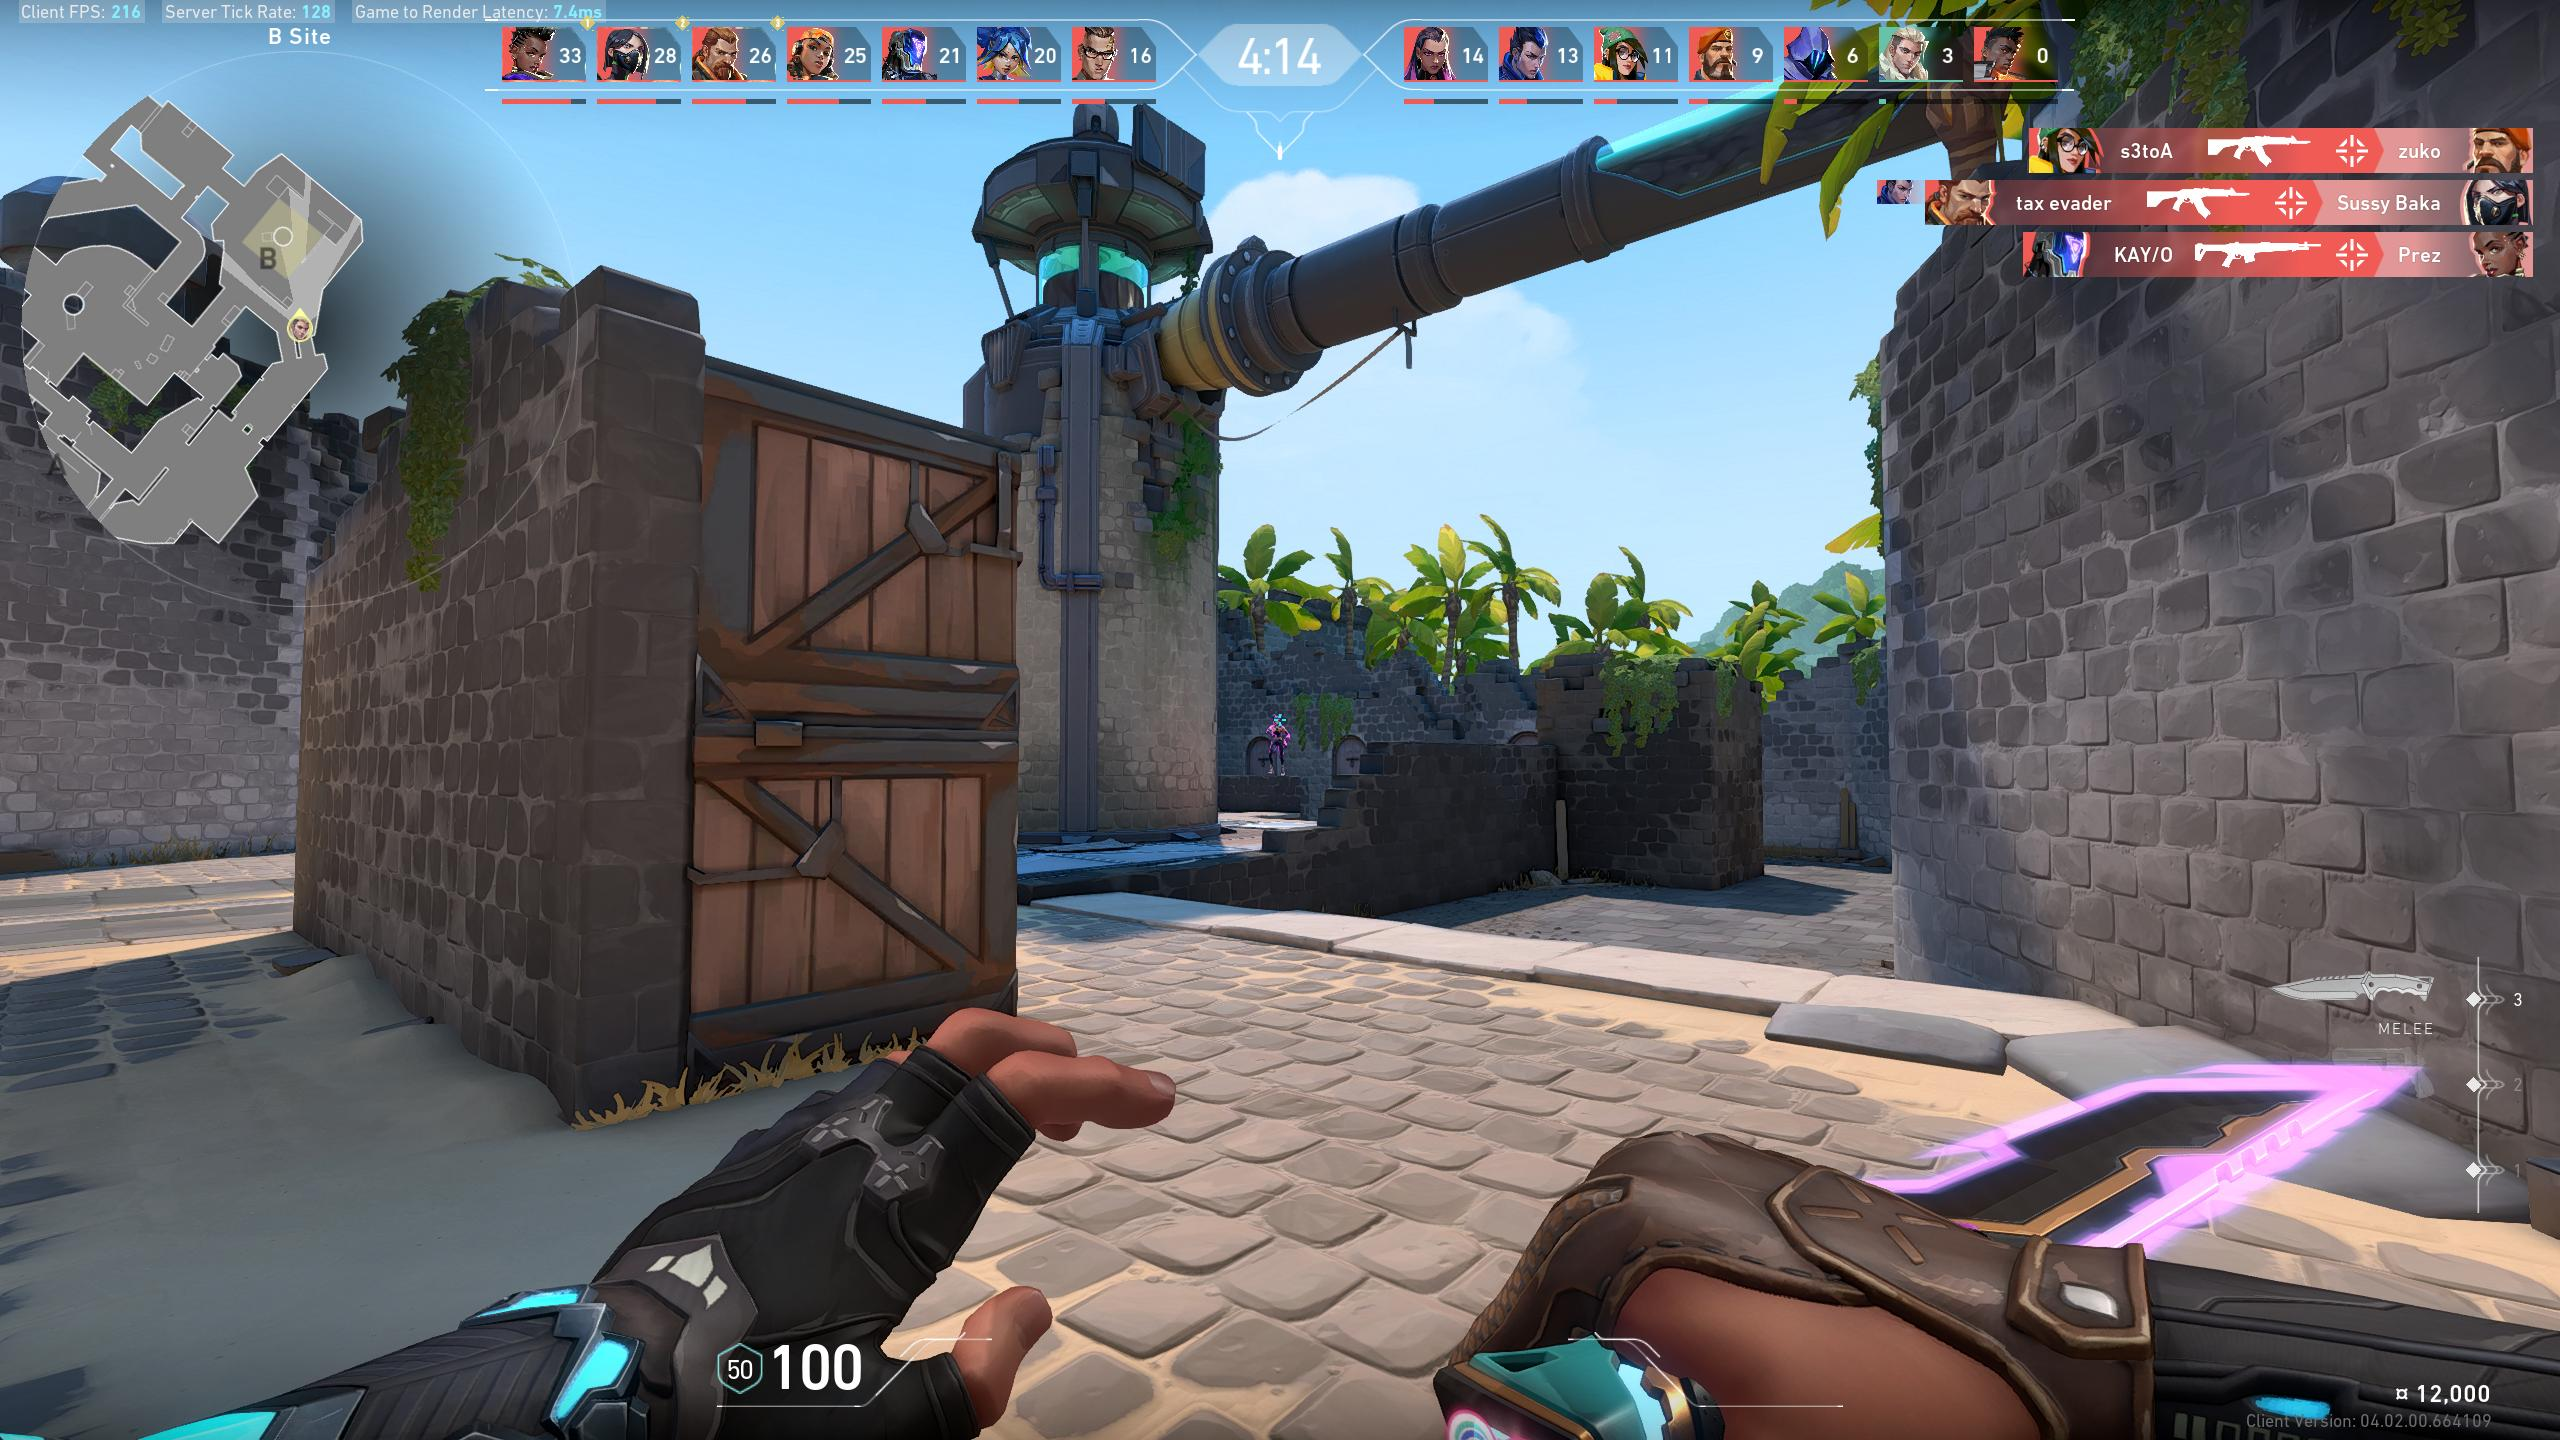enemyBody: (1275, 726, 1282, 740)
